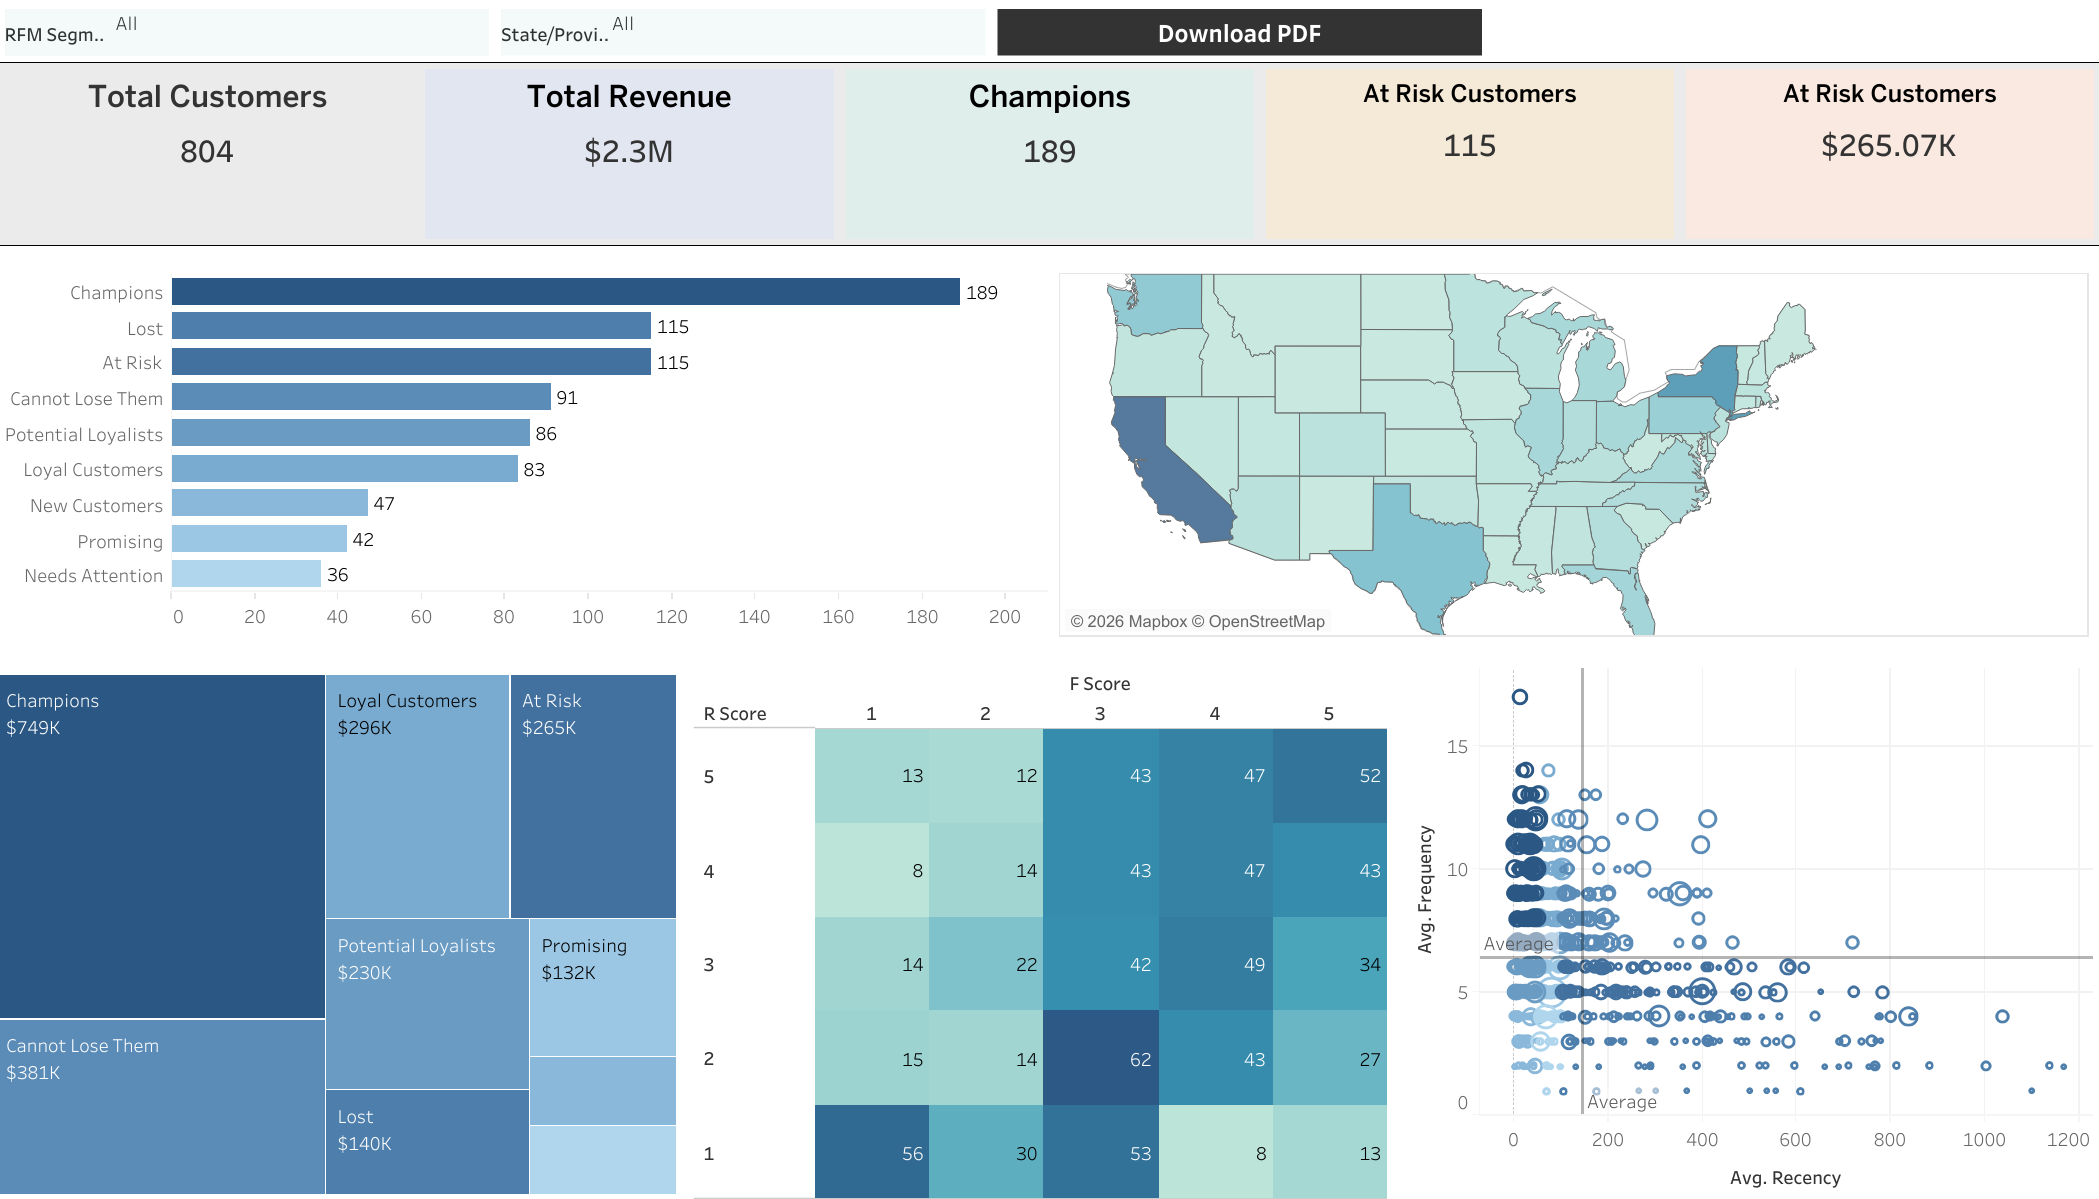

The dashboard page shown, as its layout file describes it:
{"tool":"tableau","page":{"name":"Dashboard 1","canvas":[1400,800],"ordinal":0},"visuals":[{"type":"filter","title":"US Sales Map","param":"[federated.0ehbpn41fjylm01d4cps70jciyr5].[attr:State/Province:nk]","box":[330,2,331,39]},{"type":"dashboard-object","box":[661,2,331,39]},{"type":"worksheet","title":"KPI - Total Revenue","mark":"Automatic","box":[279,42,281,121]},{"type":"worksheet","title":"KPI - Champions","mark":"Text","box":[560,42,280,121]},{"type":"worksheet","title":"KPI - At Risk Customers","mark":"Text","box":[840,42,280,121]},{"type":"worksheet","title":"KPI - At Risk Revenue","mark":"Text","box":[1120,42,280,121]},{"type":"worksheet","title":"US Sales Map","mark":"Multipolygon","box":[722.5,163,674.5,266]},{"type":"worksheet","title":"RF Heatmap","mark":"Square","rows":["Calculation_0875514939420684"],"cols":["Calculation_0875514939502605"],"box":[459,426,470,378]},{"type":"worksheet","title":"Recency vs Frequency","mark":"Automatic","rows":["Calculation_0875514954338327"],"cols":["Calculation_0875514953969686"],"box":[929,426,470,378]}]}

Visuals, with their boxes in screenshot pixels (x1, y1, x2, y2), scaled from the page's 1400x800 canvas onto the 2099x1199 screenshot:
"US Sales Map" filter: BBox(495, 3, 991, 61)
dashboard-object: BBox(991, 3, 1487, 61)
"KPI - Total Revenue" worksheet: BBox(418, 63, 840, 244)
"KPI - Champions" worksheet (Text marks): BBox(840, 63, 1259, 244)
"KPI - At Risk Customers" worksheet (Text marks): BBox(1259, 63, 1679, 244)
"KPI - At Risk Revenue" worksheet (Text marks): BBox(1679, 63, 2098, 244)
"US Sales Map" worksheet (Multipolygon marks): BBox(1083, 244, 2095, 643)
"RF Heatmap" worksheet (Square marks): BBox(688, 638, 1393, 1198)
"Recency vs Frequency" worksheet: BBox(1393, 638, 2098, 1198)
